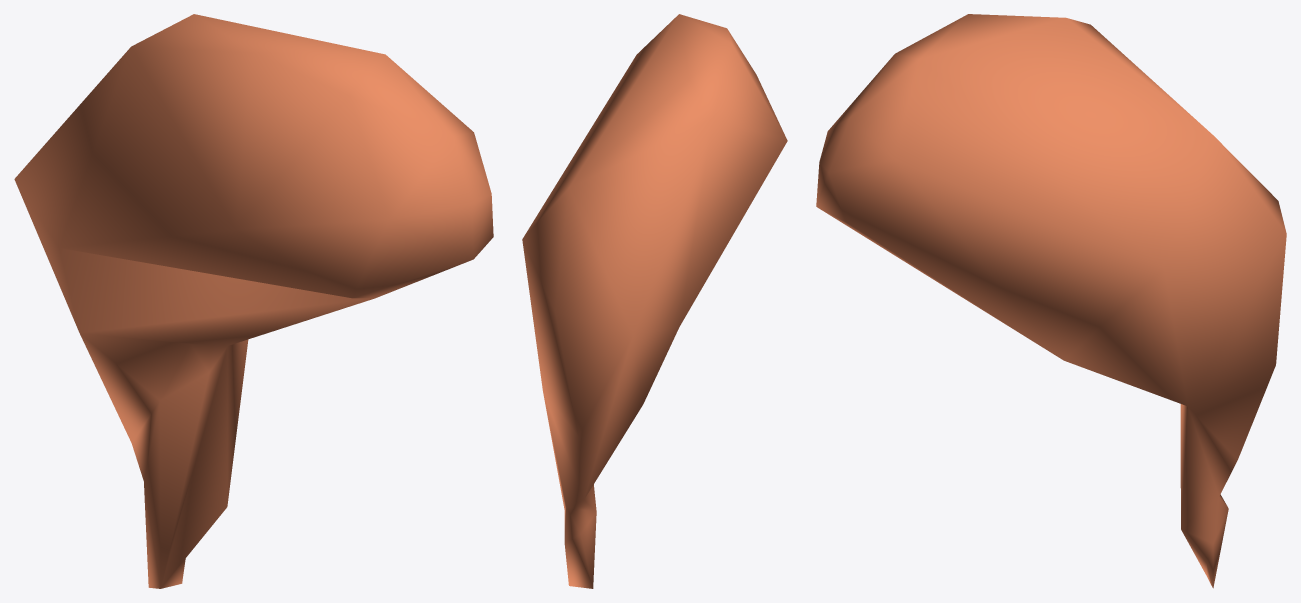
Rendered from Epididymis_right.glb.
The picture shows the model from 3 angles, left to right: view 1: azimuth 30°, elevation 25°; view 2: azimuth 150°, elevation 25°; view 3: azimuth 270°, elevation 25°; orthographic projection. The views are drawn at different scales.
Visible parts, largest first — view 1: Epididymis.r_Generated_Mesh_From_X3D.112; view 2: Epididymis.r_Generated_Mesh_From_X3D.112; view 3: Epididymis.r_Generated_Mesh_From_X3D.112.
Boxes of the visible parts, <box> form: Epididymis.r_Generated_Mesh_From_X3D.112: <box>14,14,493,588</box>; Epididymis.r_Generated_Mesh_From_X3D.112: <box>522,14,787,588</box>; Epididymis.r_Generated_Mesh_From_X3D.112: <box>816,14,1286,588</box>.
Size of the model in its own units: 0.00968 by 0.0253 by 0.0198.
